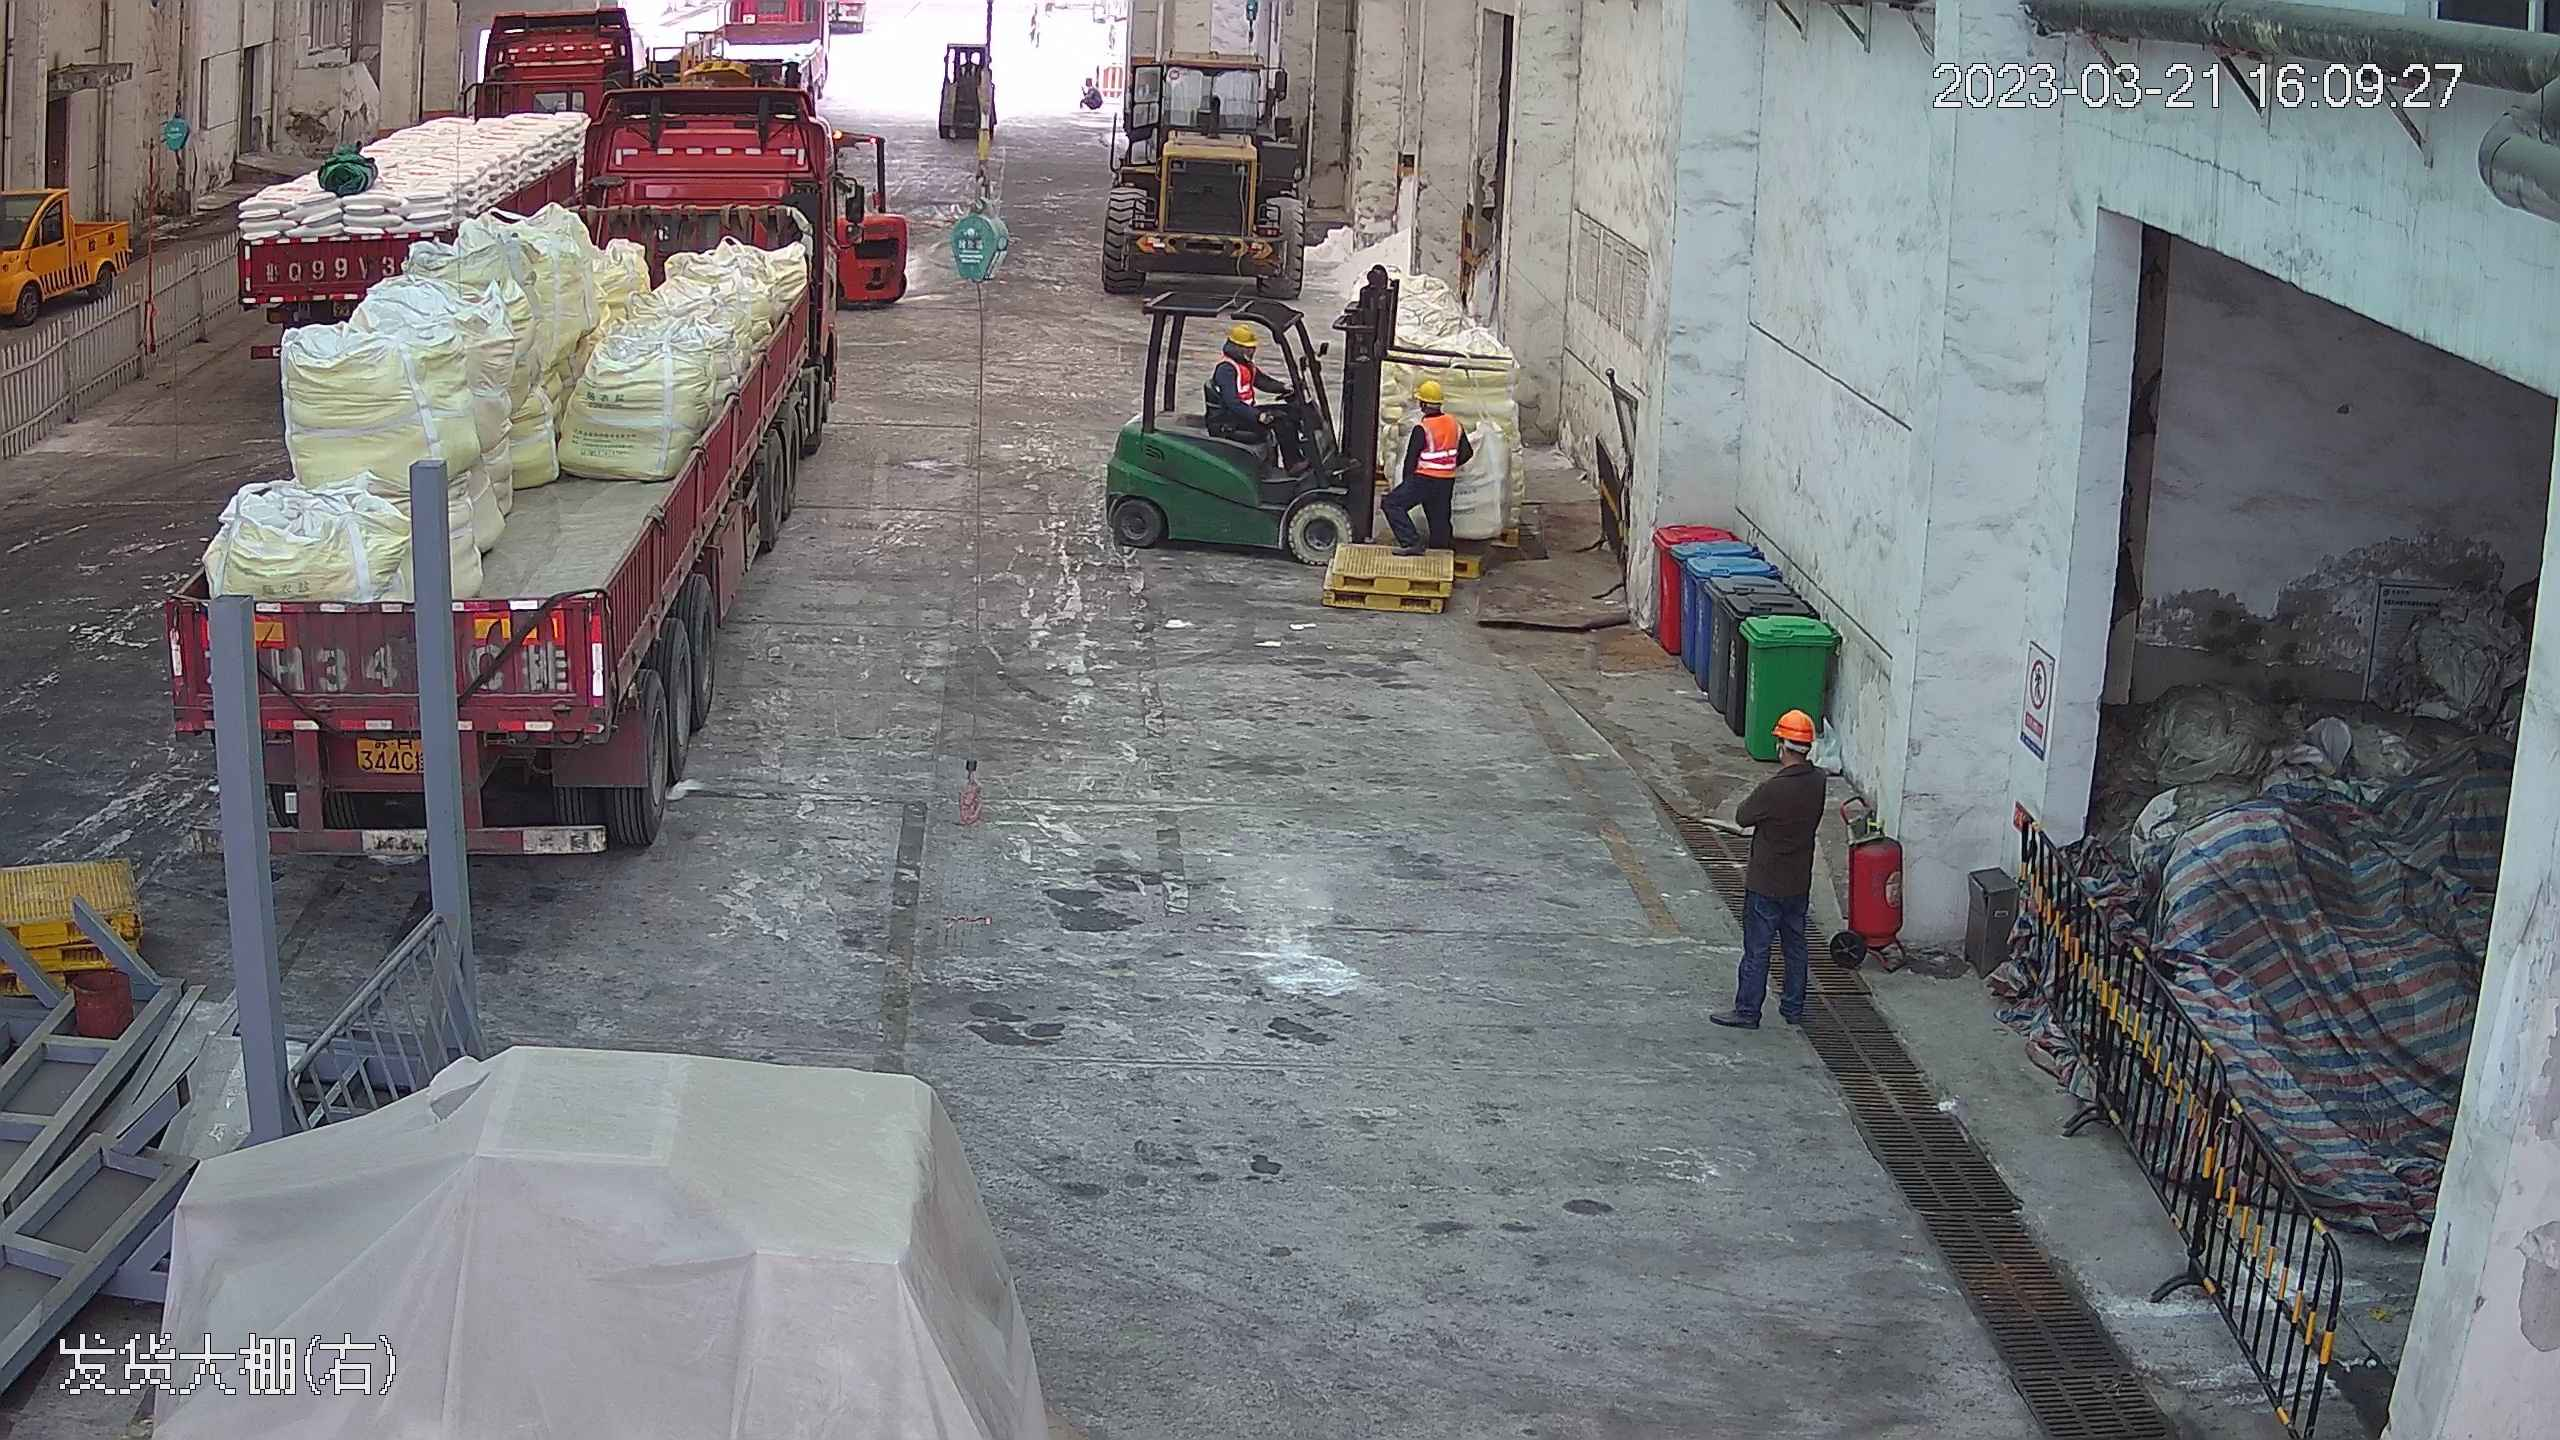head: (1744, 705, 1828, 813), (1404, 374, 1463, 441), (1215, 320, 1270, 388)
helmet: (1772, 706, 1818, 743), (1413, 375, 1446, 402), (1224, 320, 1258, 346)
people: (1707, 701, 1824, 1030), (1394, 371, 1470, 557)
truck: (176, 14, 853, 856)
